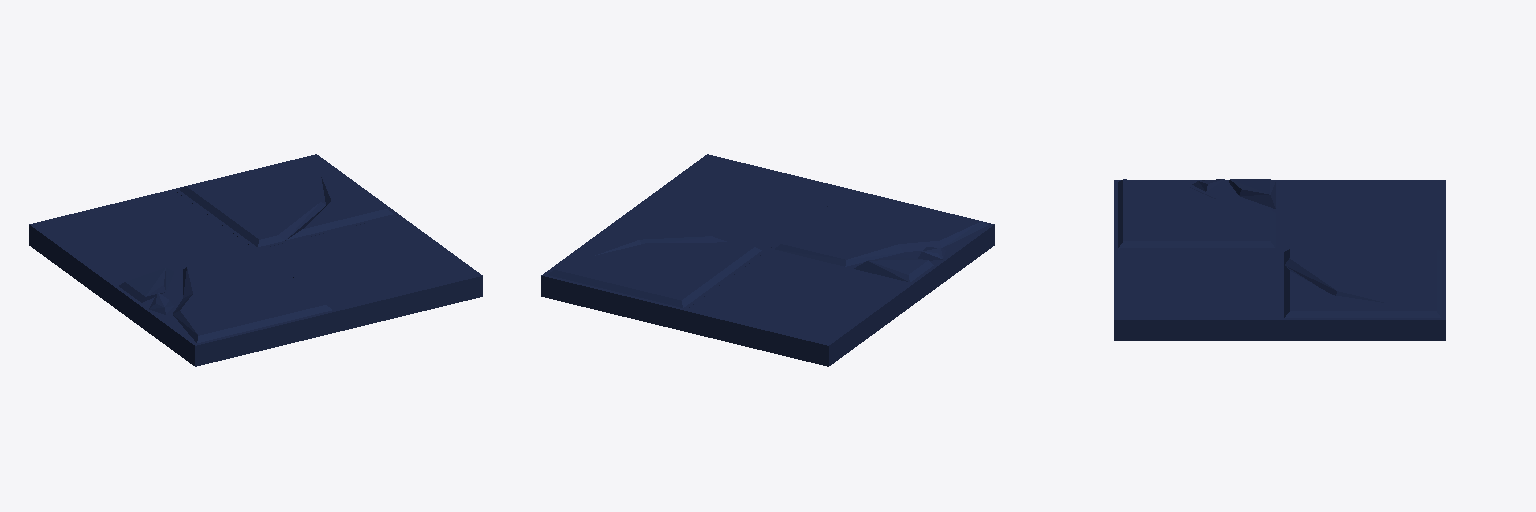
Rendered from tile4.obj.
3 renders of one model, left to right at view 1: azimuth 30°, elevation 25°; view 2: azimuth 150°, elevation 25°; view 3: azimuth 270°, elevation 25°, orthographic.
Parts seen in each view (by area): view 1: floor.004_grey_0; view 2: floor.004_grey_0; view 3: floor.004_grey_0.
Boxes of the visible parts, box(x1,y1,x2,y2) form: floor.004_grey_0: box(29, 154, 482, 366); floor.004_grey_0: box(541, 154, 994, 366); floor.004_grey_0: box(1114, 179, 1445, 340).
Size of the model in its own units: 1 by 0.1 by 1.